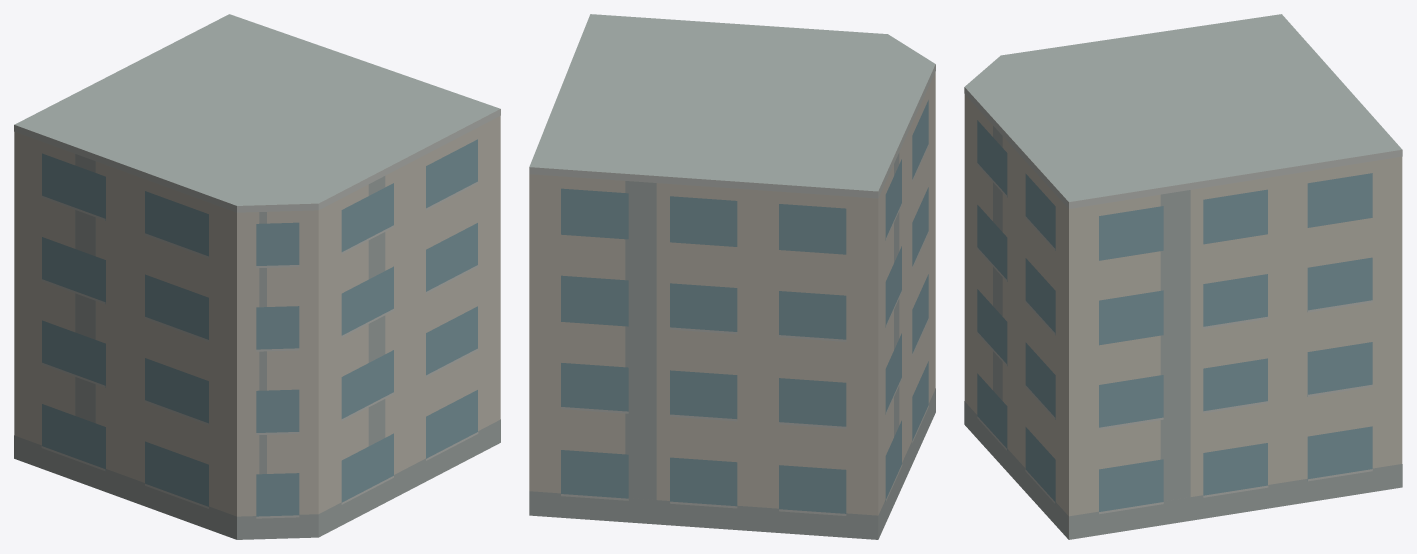
Rendered from residential-820881a3-cd7d-4424-b0e1-2e3cbb1c1a3d.glb.
The picture shows the model from 3 angles, left to right: view 1: azimuth 30°, elevation 25°; view 2: azimuth 150°, elevation 25°; view 3: azimuth 270°, elevation 25°; orthographic projection. The views are drawn at different scales.
Visible parts, largest first — view 1: residential-820881a3-cd7d-4424-b0e1-2e3cbb1c1a3d.tmp; view 2: residential-820881a3-cd7d-4424-b0e1-2e3cbb1c1a3d.tmp; view 3: residential-820881a3-cd7d-4424-b0e1-2e3cbb1c1a3d.tmp.
Boxes of the visible parts, <box> form: residential-820881a3-cd7d-4424-b0e1-2e3cbb1c1a3d.tmp: <box>14,14,500,539</box>; residential-820881a3-cd7d-4424-b0e1-2e3cbb1c1a3d.tmp: <box>529,14,935,539</box>; residential-820881a3-cd7d-4424-b0e1-2e3cbb1c1a3d.tmp: <box>964,14,1402,539</box>.
Size of the model in its own units: 14.35 by 12 by 14.12.
